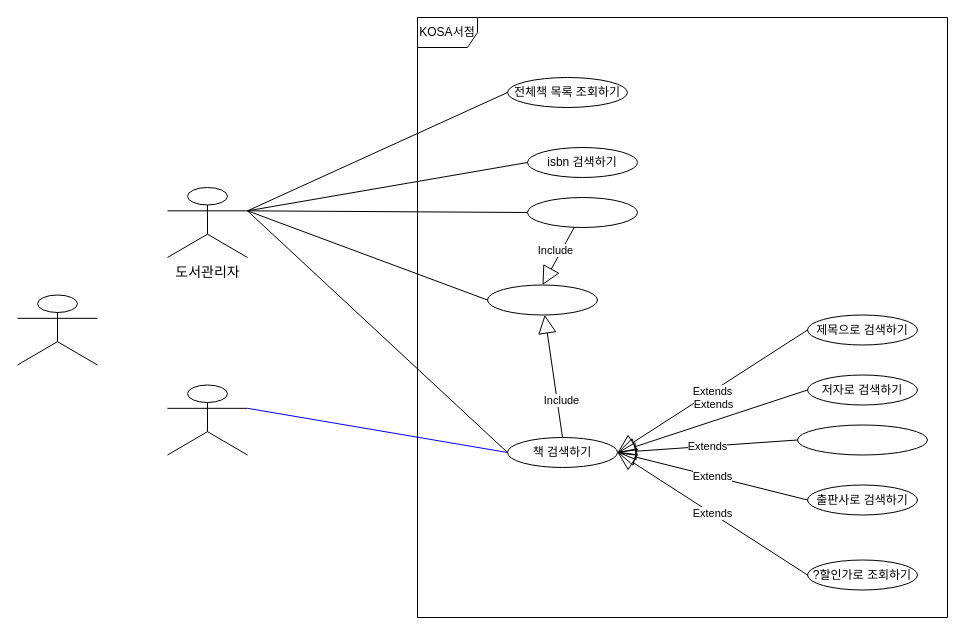
Some shapes in this 965 by 635 pixel diagram are drawn without their labels. Here are the shapes that lost their labels. From the top down, the centre of each, then its label:
At (x=582, y=212): "특정한 책 삭제하기".
At (x=542, y=299): "신규로 책 등록하기".
At (x=57, y=329): "사용자".
At (x=207, y=419): "일반사용자".
At (x=862, y=439): "가격대별로 검색하기".
